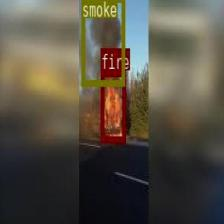fire: (100, 70, 125, 142)
smoke: (81, 0, 125, 86)
